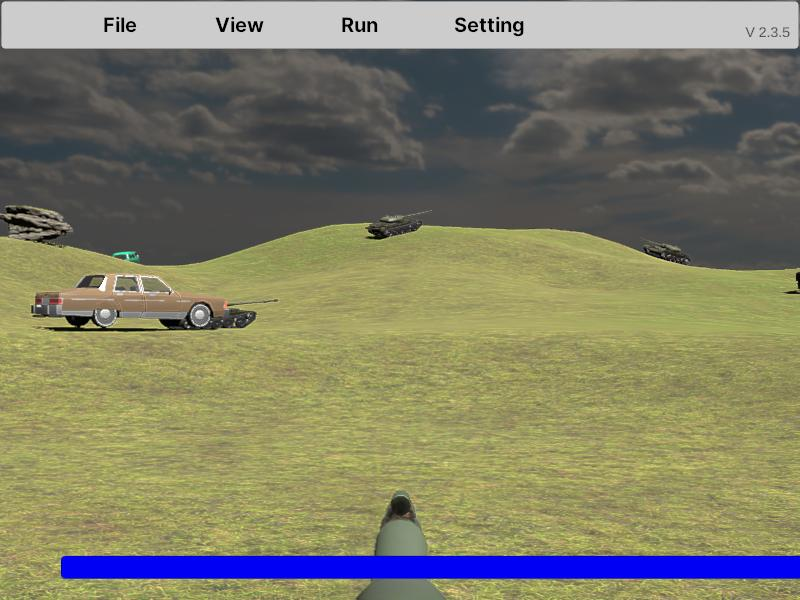Tank: (367, 209, 433, 238)
car: (31, 272, 229, 331)
